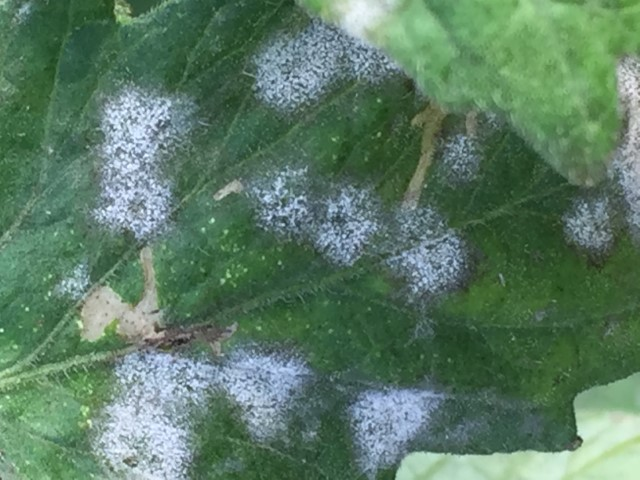oidio: (86, 80, 200, 239), (92, 345, 217, 480), (218, 345, 313, 448), (385, 202, 475, 305), (348, 385, 443, 480), (256, 21, 338, 113), (315, 181, 380, 267), (612, 55, 640, 237), (249, 162, 313, 236), (561, 195, 616, 260), (340, 31, 401, 84), (436, 134, 483, 186), (53, 264, 91, 299), (445, 418, 481, 448), (413, 316, 437, 337), (10, 4, 32, 26), (483, 110, 503, 132), (1, 1, 12, 16)
